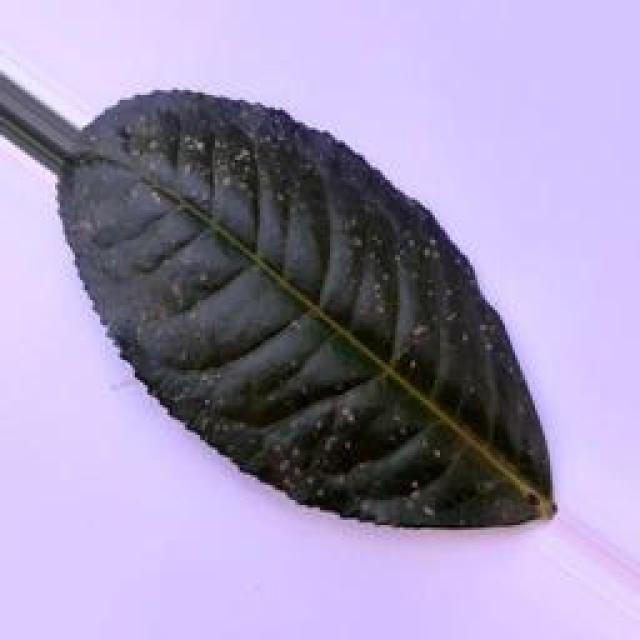Algal Leaf Spot: (68, 81, 562, 532)
